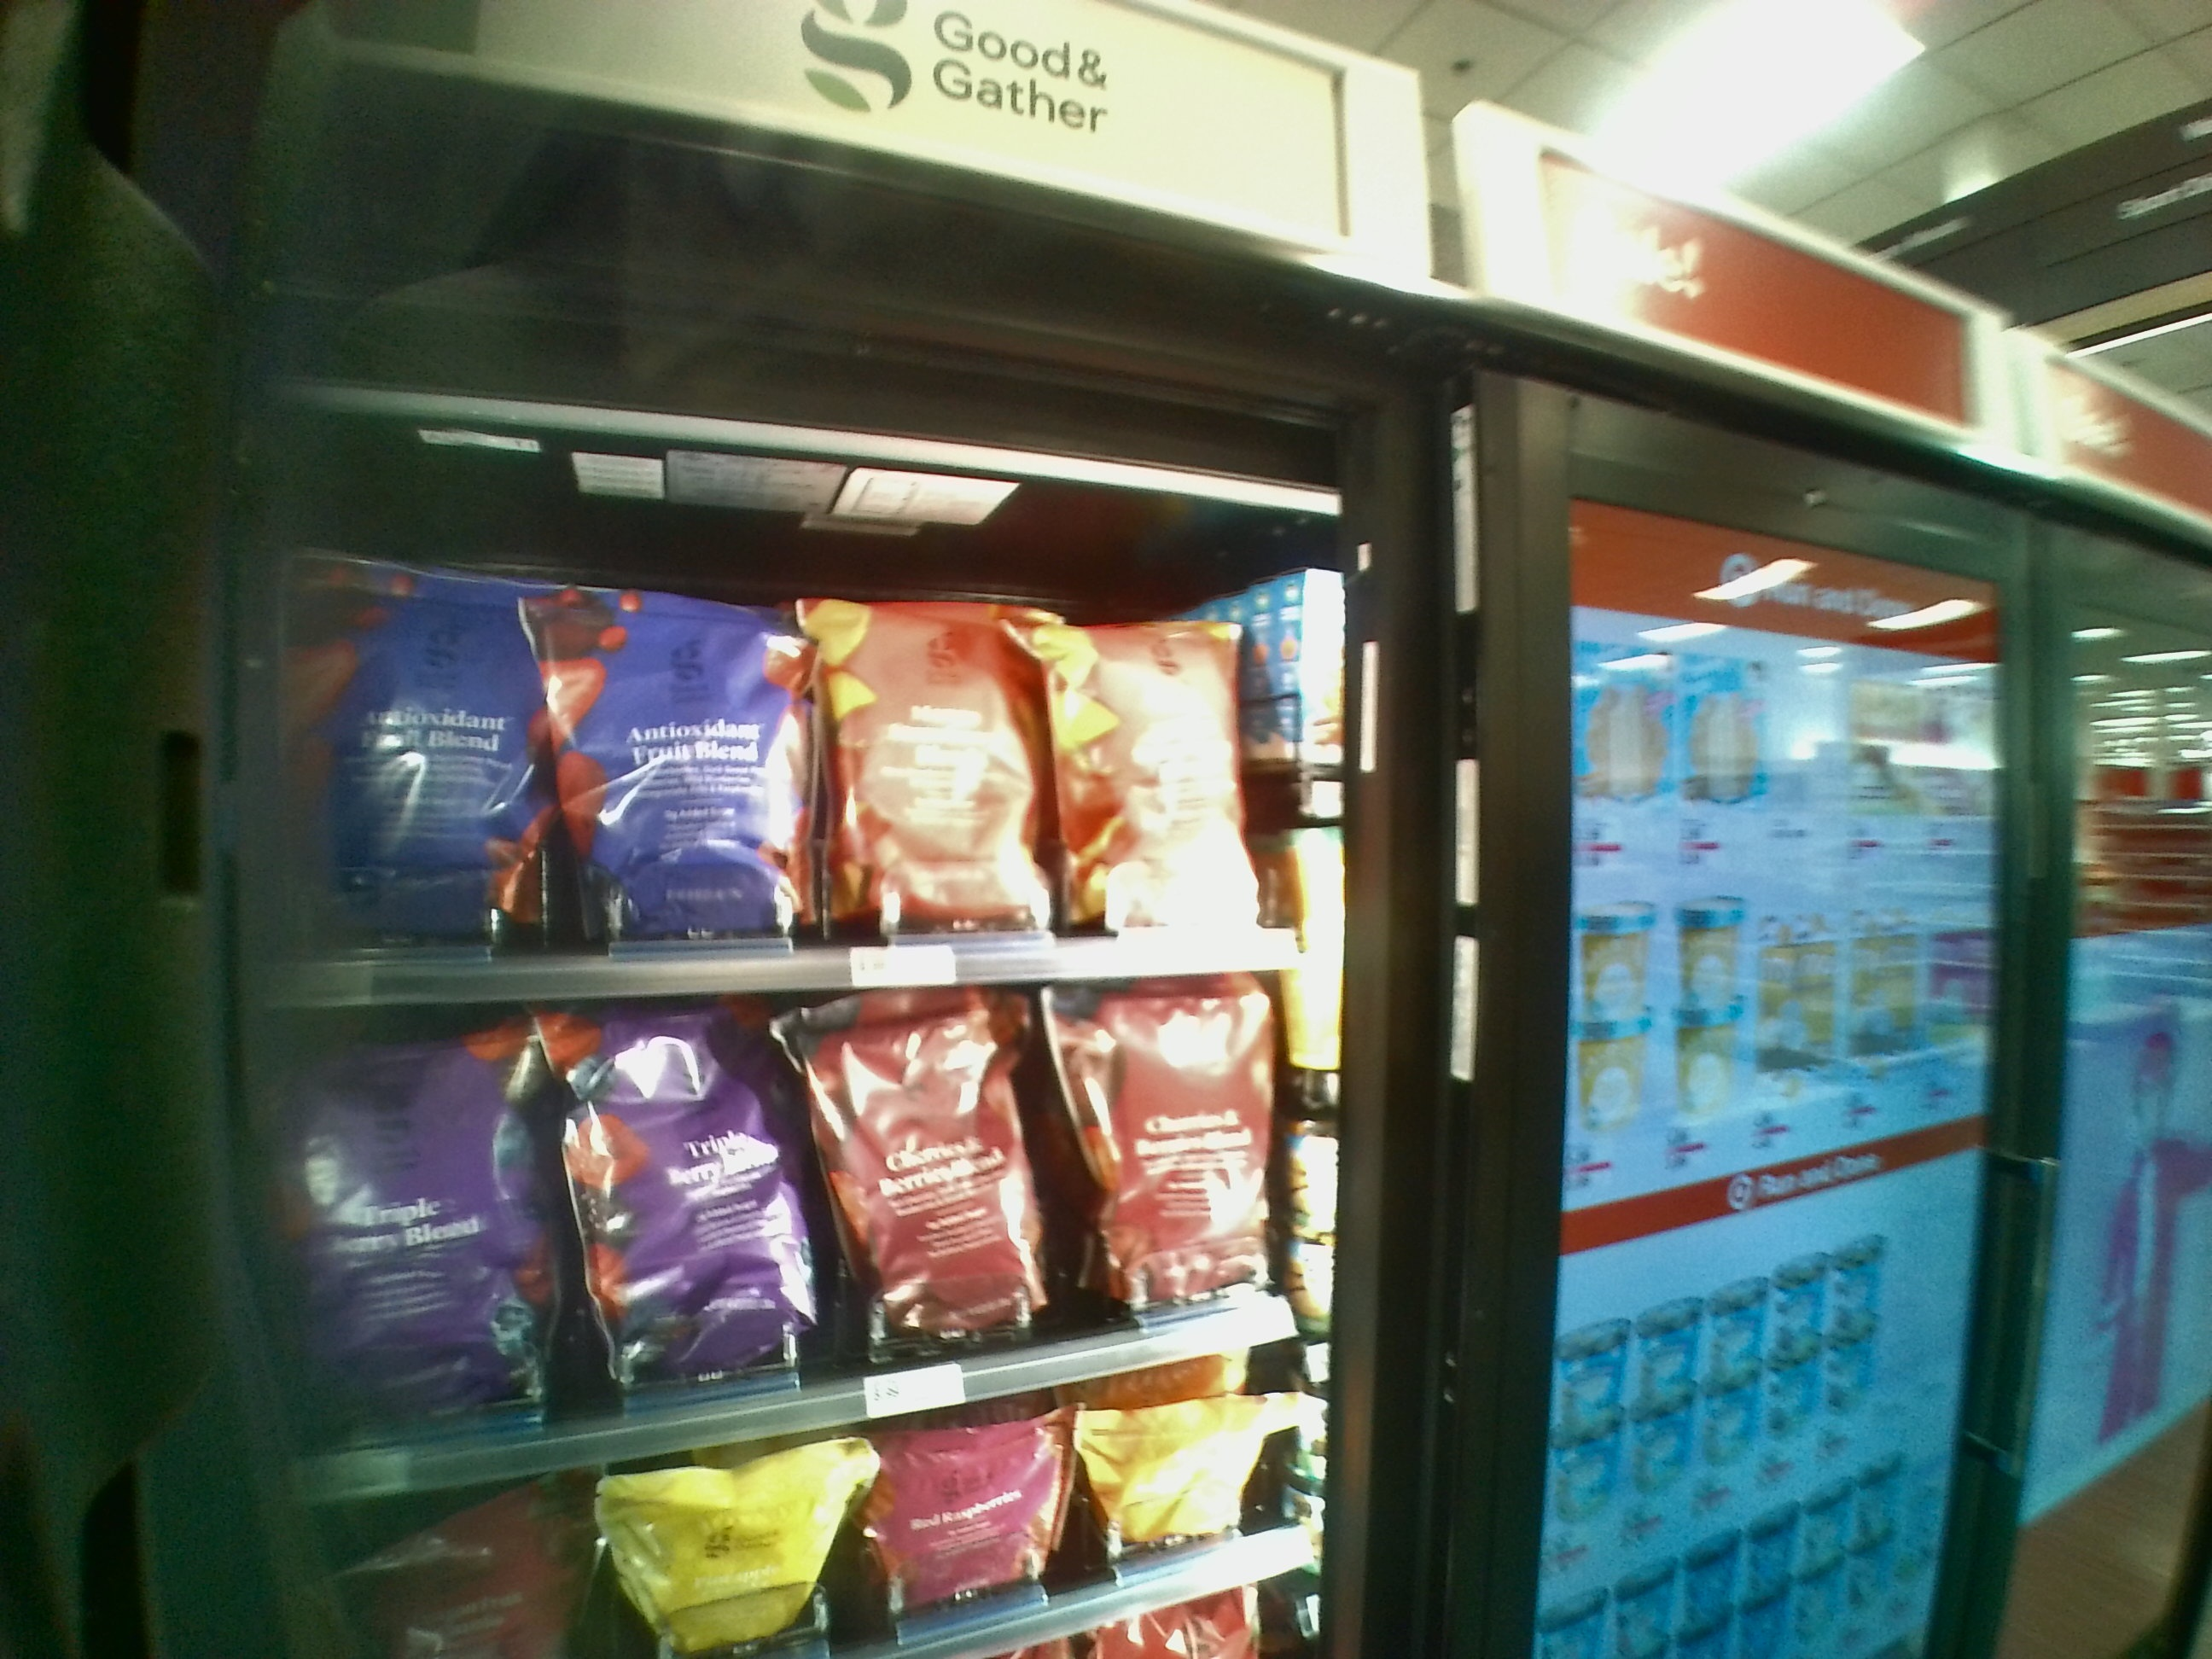shelf: (251, 403, 1336, 990), (270, 997, 1334, 1396)
